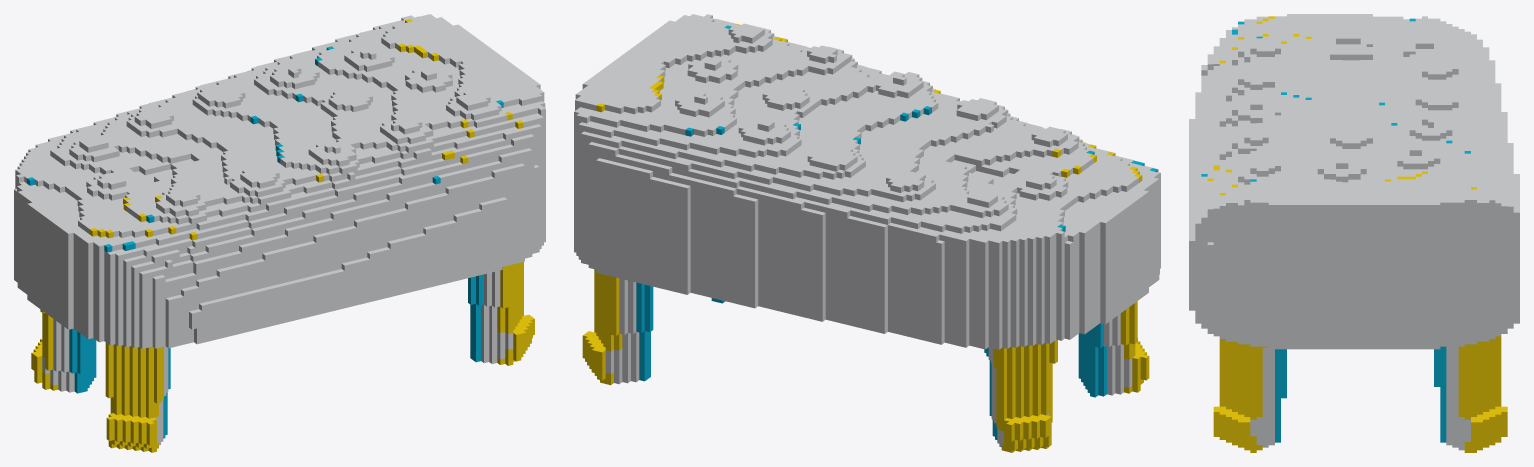
The picture shows the model from 3 angles, left to right: view 1: azimuth 30°, elevation 25°; view 2: azimuth 150°, elevation 25°; view 3: azimuth 270°, elevation 25°; orthographic projection. The views are drawn at different scales.
Visible parts, largest first — view 1: =>[0:1:1:1187], =>[0:1:1:311], =>[0:1:1:623], =>[0:1:1:259], =>[0:1:1:1190], =>[0:1:1:641], =>[0:1:1:1220], =>[0:1:1:621], =>[0:1:1:437], =>[0:1:1:642], =>[0:1:1:627], =>[0:1:1:1191] (+34 smaller); view 2: =>[0:1:1:566], =>[0:1:1:1040], =>[0:1:1:1279], =>[0:1:1:1058], =>[0:1:1:648], =>[0:1:1:311], =>[0:1:1:259], =>[0:1:1:1175], =>[0:1:1:1710], =>[0:1:1:642], =>[0:1:1:1220], =>[0:1:1:437] (+26 smaller); view 3: =>[0:1:1:948], =>[0:1:1:564], =>[0:1:1:259], =>[0:1:1:563], =>[0:1:1:658], =>[0:1:1:657], =>[0:1:1:1591], =>[0:1:1:1590], =>[0:1:1:437], =>[0:1:1:1220], =>[0:1:1:565], =>[0:1:1:1718] (+58 smaller).
Boxes of the visible parts, x1,y1,x2,y2 form: =>[0:1:1:1187]: (197, 238, 502, 344); =>[0:1:1:311]: (27, 204, 68, 329); =>[0:1:1:623]: (199, 247, 341, 303); =>[0:1:1:259]: (410, 14, 541, 100); =>[0:1:1:1190]: (202, 232, 502, 310); =>[0:1:1:641]: (73, 233, 88, 338); =>[0:1:1:1220]: (192, 114, 285, 170); =>[0:1:1:621]: (504, 165, 524, 238); =>[0:1:1:437]: (222, 77, 324, 147); =>[0:1:1:642]: (17, 192, 31, 294); =>[0:1:1:627]: (387, 206, 423, 241); =>[0:1:1:1191]: (344, 227, 502, 270); =>[0:1:1:566]: (596, 166, 687, 294); =>[0:1:1:1040]: (758, 199, 822, 321); =>[0:1:1:1279]: (690, 186, 754, 308); =>[0:1:1:1058]: (825, 213, 884, 333); =>[0:1:1:648]: (888, 230, 941, 344); =>[0:1:1:311]: (1105, 192, 1148, 323); =>[0:1:1:259]: (575, 14, 713, 105); =>[0:1:1:1175]: (944, 236, 966, 347); =>[0:1:1:1710]: (969, 239, 985, 349); =>[0:1:1:642]: (1084, 222, 1100, 333); =>[0:1:1:1220]: (866, 108, 956, 170); =>[0:1:1:437]: (779, 94, 893, 170); =>[0:1:1:948]: (1275, 205, 1440, 349); =>[0:1:1:564]: (1440, 202, 1464, 346); =>[0:1:1:259]: (1244, 189, 1476, 199); =>[0:1:1:563]: (1250, 269, 1274, 346); =>[0:1:1:658]: (1464, 200, 1476, 344); =>[0:1:1:657]: (1238, 205, 1250, 344); =>[0:1:1:1591]: (1477, 203, 1489, 341); =>[0:1:1:1590]: (1226, 203, 1237, 341); =>[0:1:1:437]: (1281, 110, 1476, 118); =>[0:1:1:1220]: (1268, 87, 1421, 97); =>[0:1:1:565]: (1250, 202, 1268, 268); =>[0:1:1:1718]: (1489, 200, 1495, 338).
Size of the model in its own units: 39.22 by 20.69 by 23.28.
